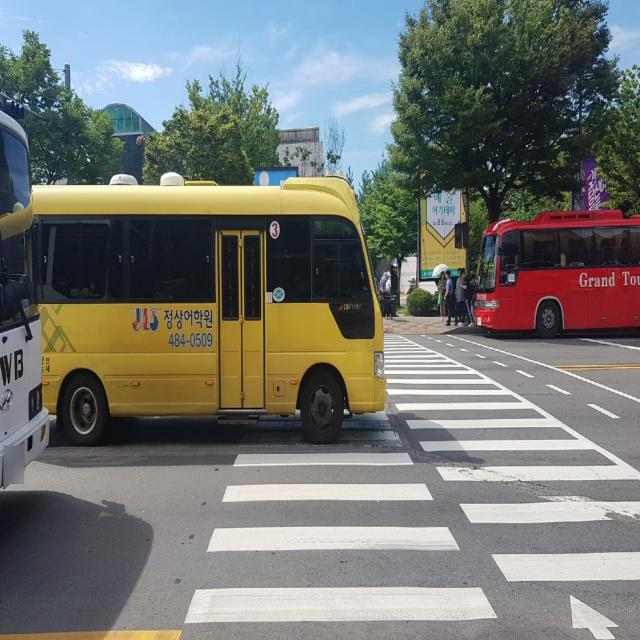횡단보도: (184, 333, 640, 640)
